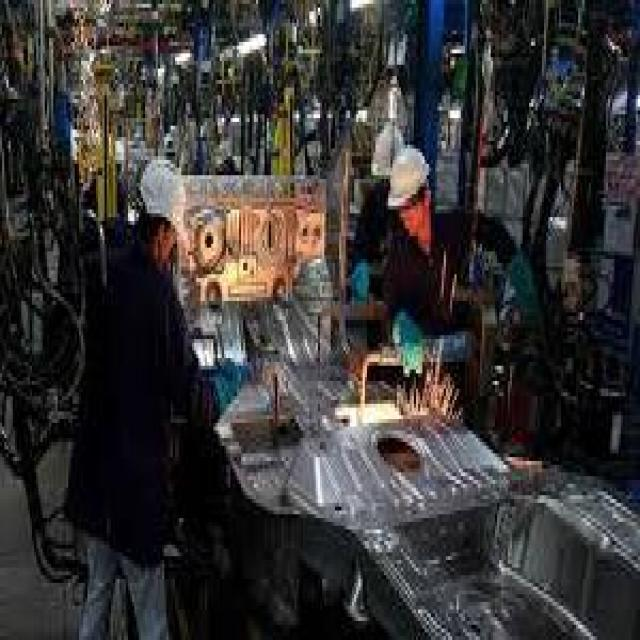Safety-Helmet: (380, 137, 439, 225)
